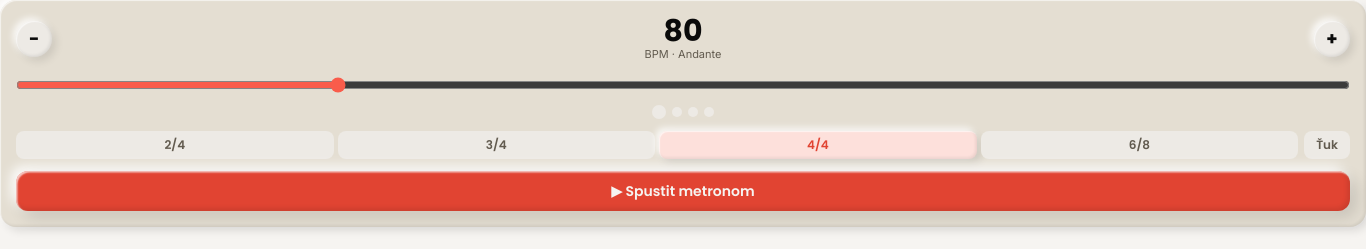
Test: Metronome › switches the meter
Click the radio button labelled "3/4". click: (496, 144)
box: x1=338 y1=130 x2=655 y2=158
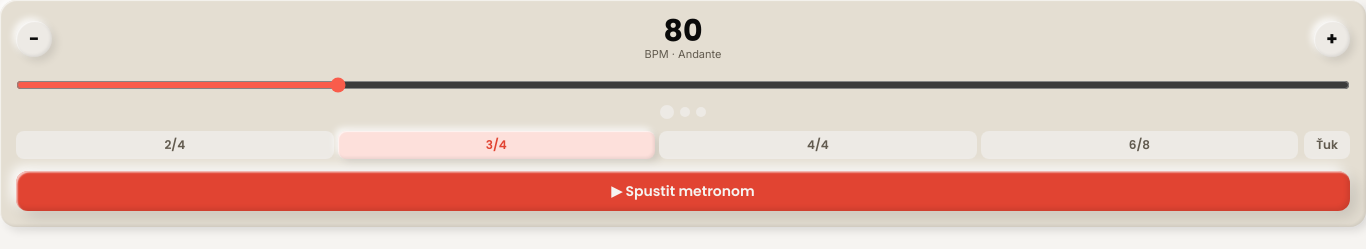
Check: the radio button labelled "3/4" is checked, box x1=338 y1=130 x2=655 y2=158
